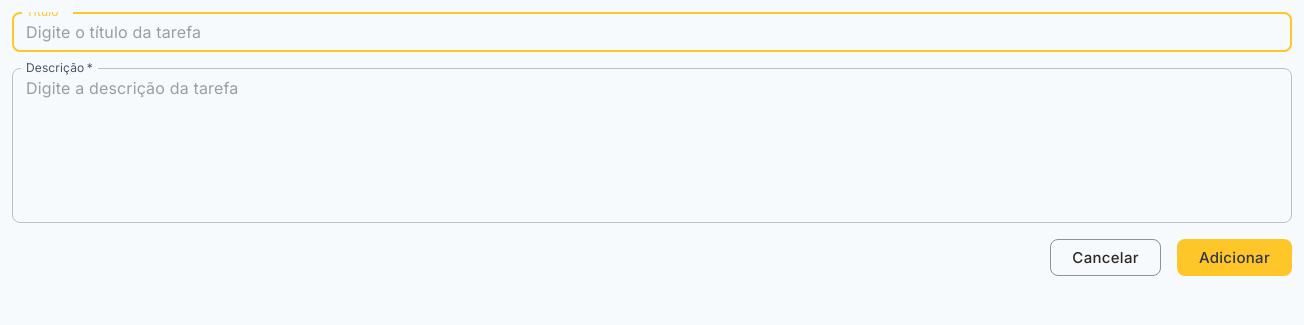
Test: FormCreateTask › should show error when description is empty
Type "Título válido" into the field labelled "Título *". click: (652, 32)
box: [12, 12, 1292, 52]
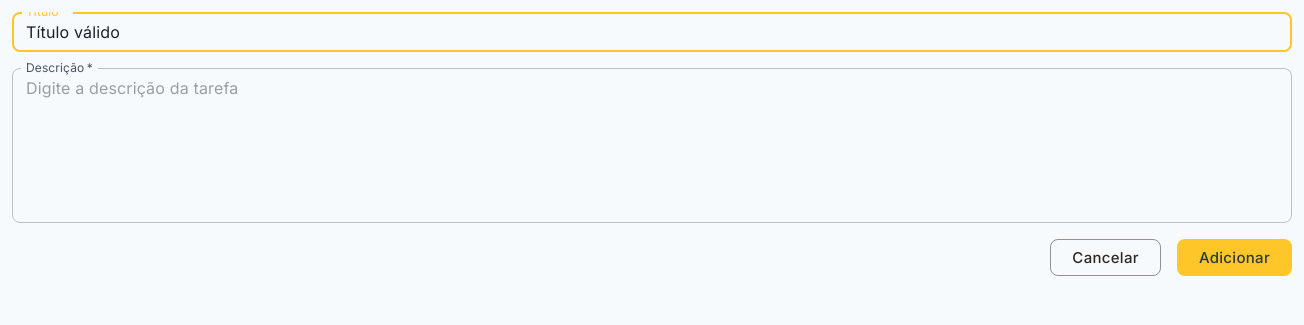
Click the button "Adicionar". click: click(1234, 258)
box: [1177, 239, 1292, 276]
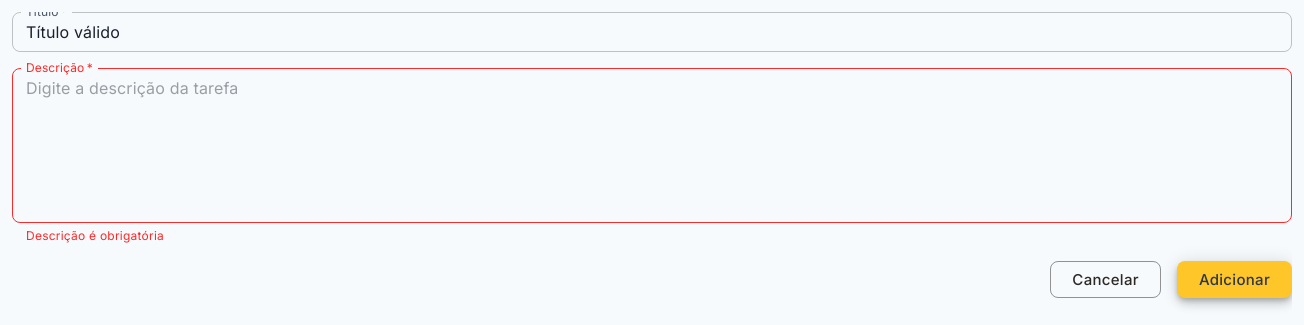
Result: the text "Descrição é obrigatória" is shown at [26, 228, 164, 243]
